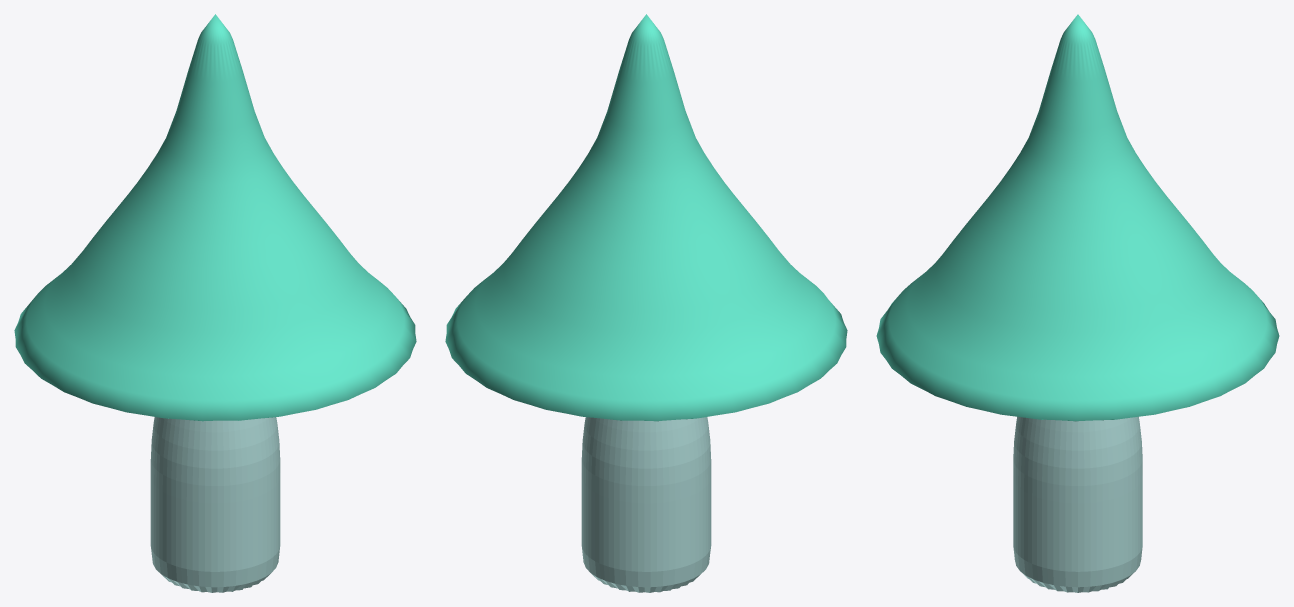
The model's file is mushM.fbx.
The picture shows the model from 3 angles, left to right: view 1: azimuth 30°, elevation 25°; view 2: azimuth 150°, elevation 25°; view 3: azimuth 270°, elevation 25°; orthographic projection.
Visible parts, largest first — view 1: Cylinder.012; view 2: Cylinder.012; view 3: Cylinder.012.
Boxes of the visible parts, bbox=[...] form: Cylinder.012: bbox=[14, 14, 416, 592]; Cylinder.012: bbox=[445, 14, 847, 592]; Cylinder.012: bbox=[876, 14, 1279, 592].
Bounding box in the file's own units: 224 × 345 × 224.
